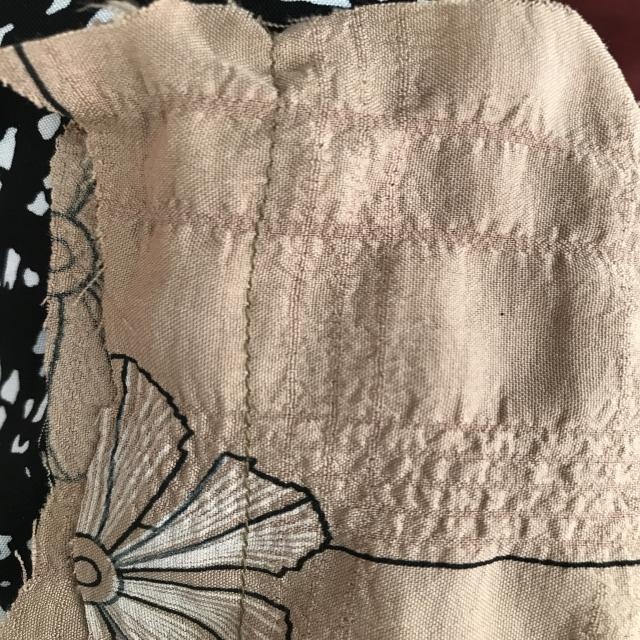good: (232, 256, 260, 418), (256, 135, 297, 220)
